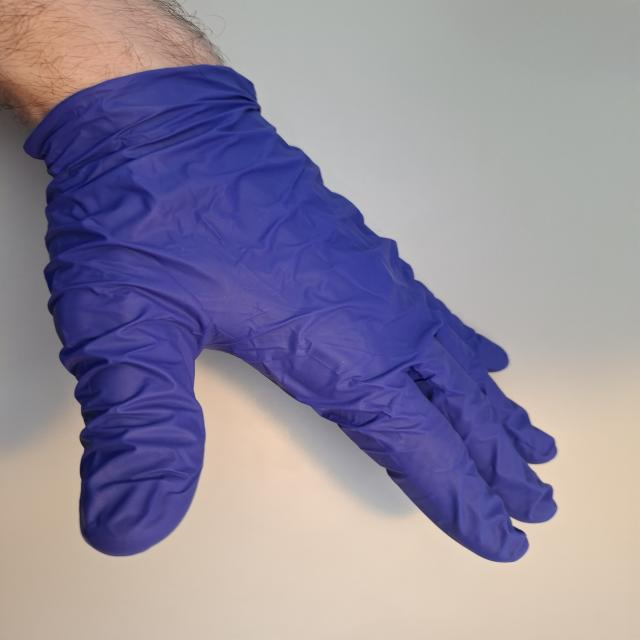glove_on: (20, 60, 562, 566)
